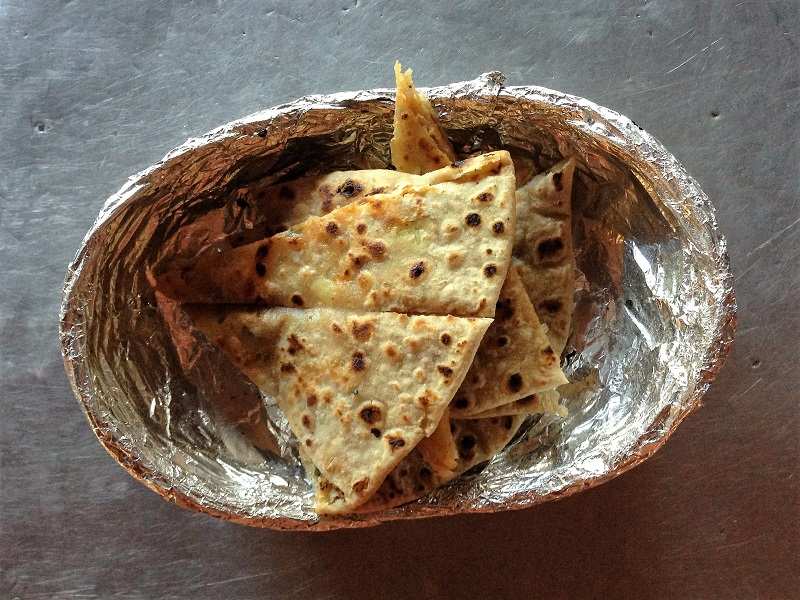aloo_paratha: (161, 81, 602, 519)
